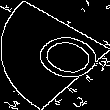O_SE: (8, 22, 102, 88)
